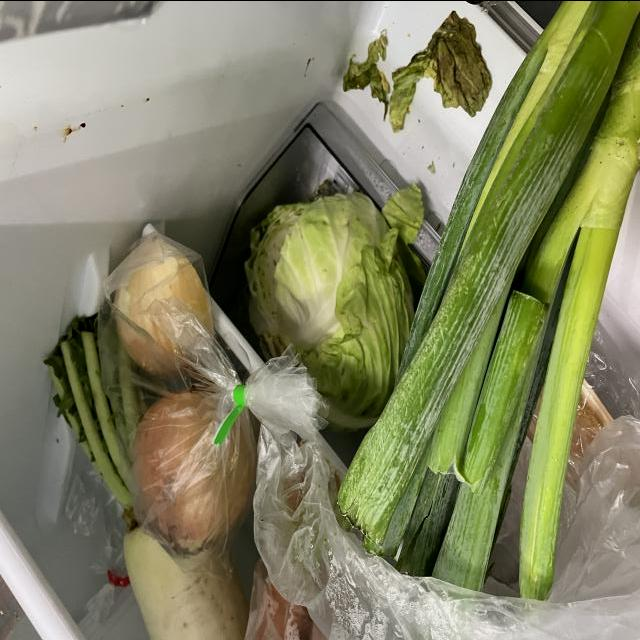cabbage: (246, 186, 420, 434)
onion: (336, 1, 640, 607), (134, 391, 260, 561), (116, 242, 213, 372)
